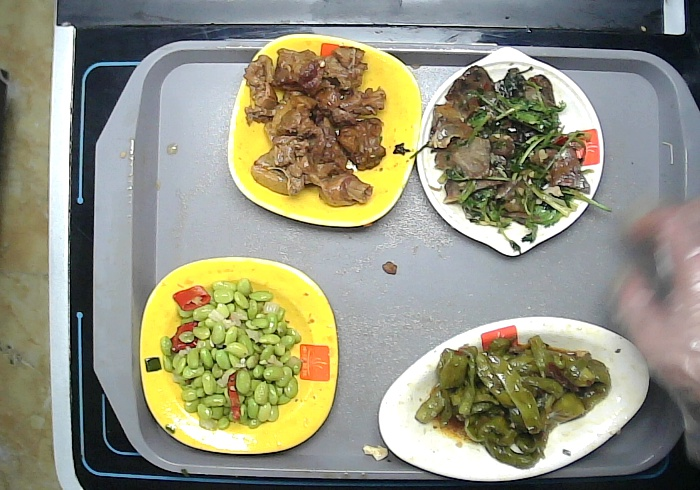SHKJ-Bao_Yu_Pan: (415, 44, 608, 257)
SHKJ-Huang_Se_Cai_Die: (225, 31, 424, 228)
SHKJ-Huang_Se_Si_Fang_Cai_Die: (138, 254, 340, 455)
SHKJ-Yu_Pan: (376, 313, 652, 484)
